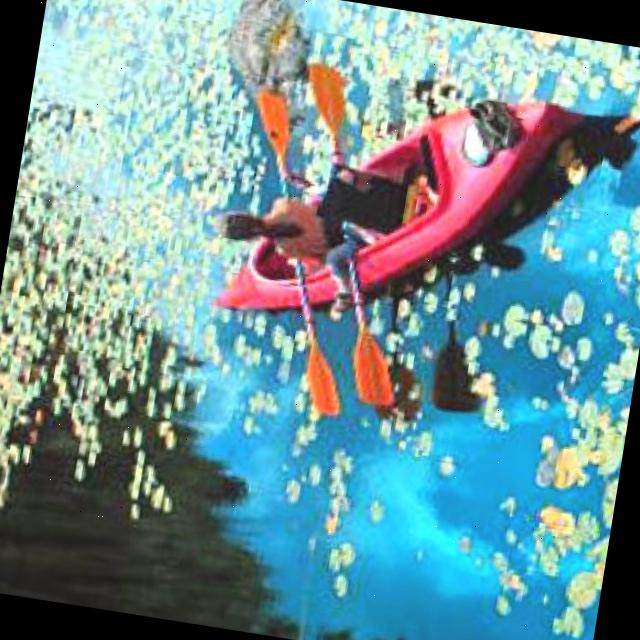kayak: (216, 98, 583, 414)
